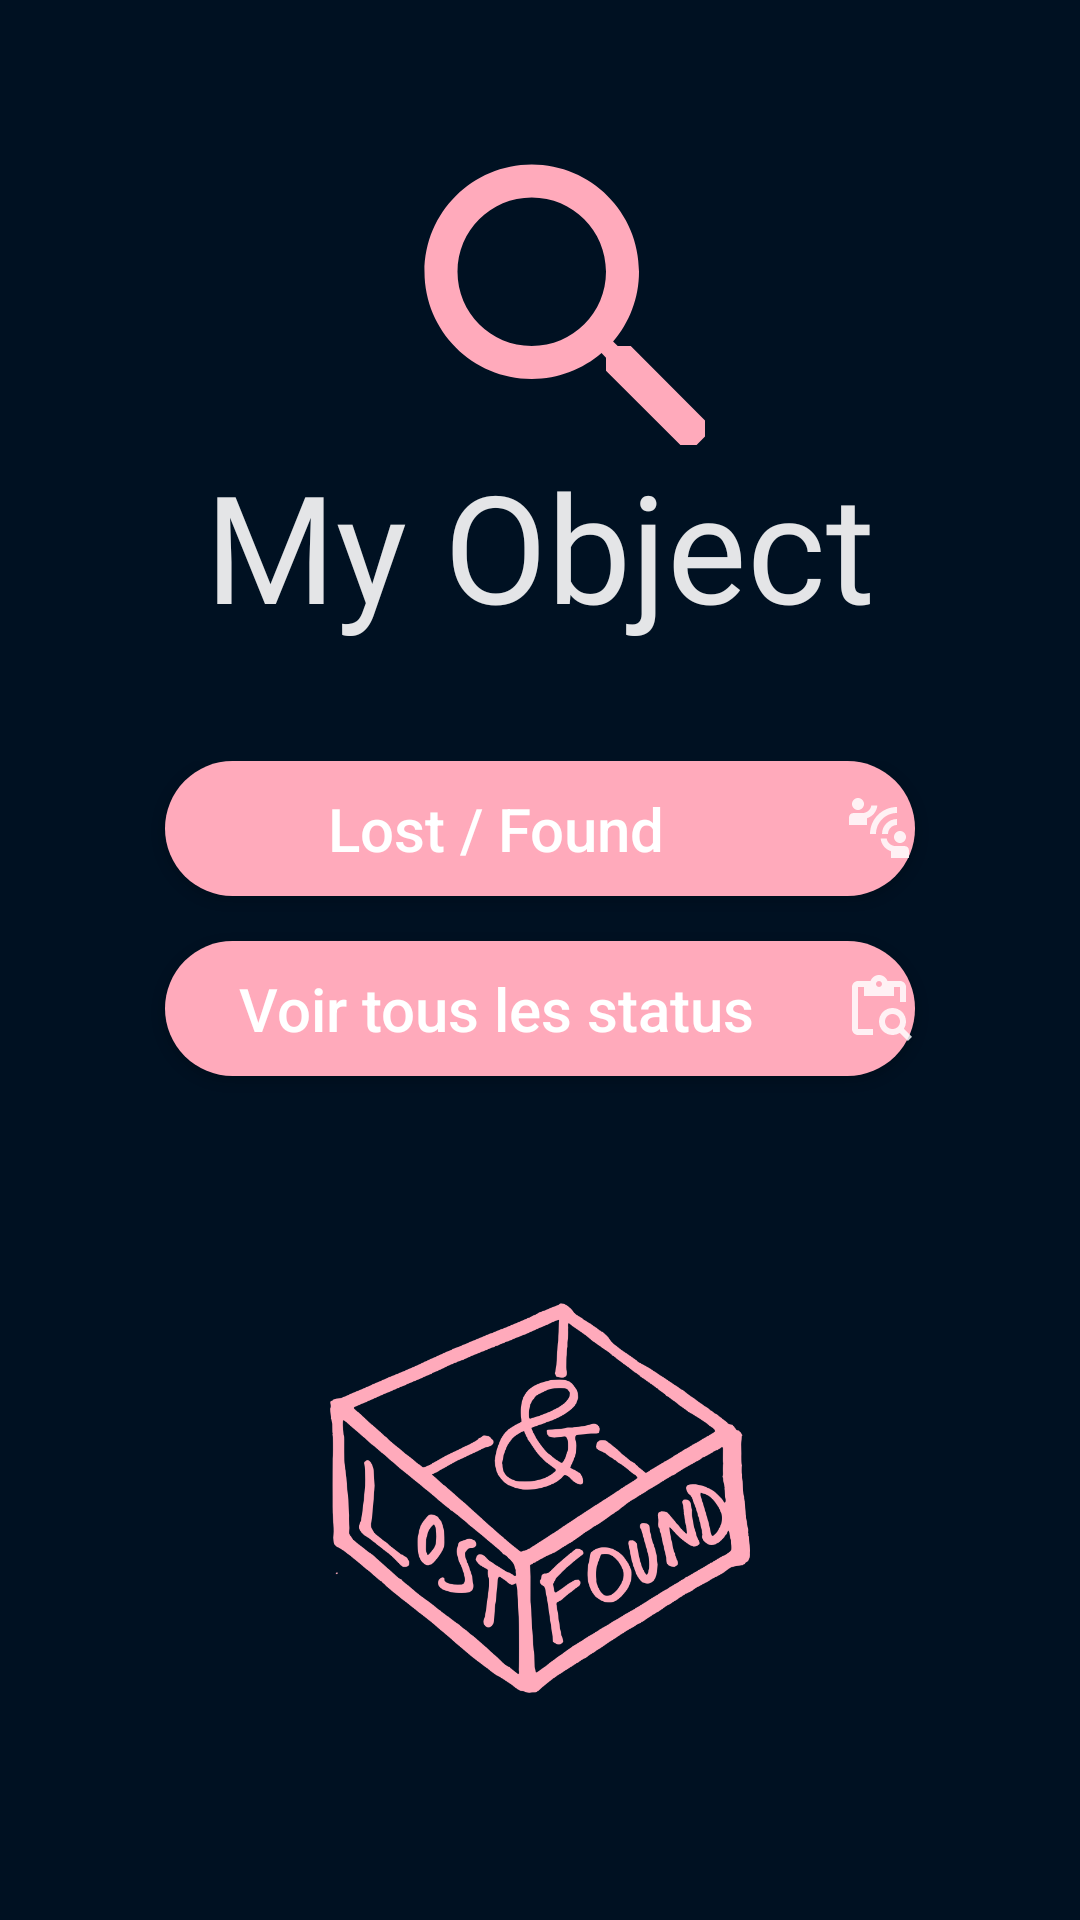

Icon bounding boxes for this 1080 x 1920 phone screenshot, format (x1, y1, x2, y2):
search: (424, 164, 705, 445)
